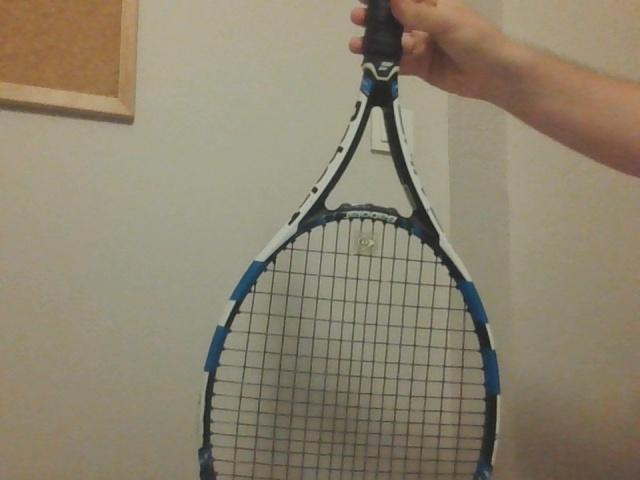Tennis-Racket: (196, 0, 496, 479)
